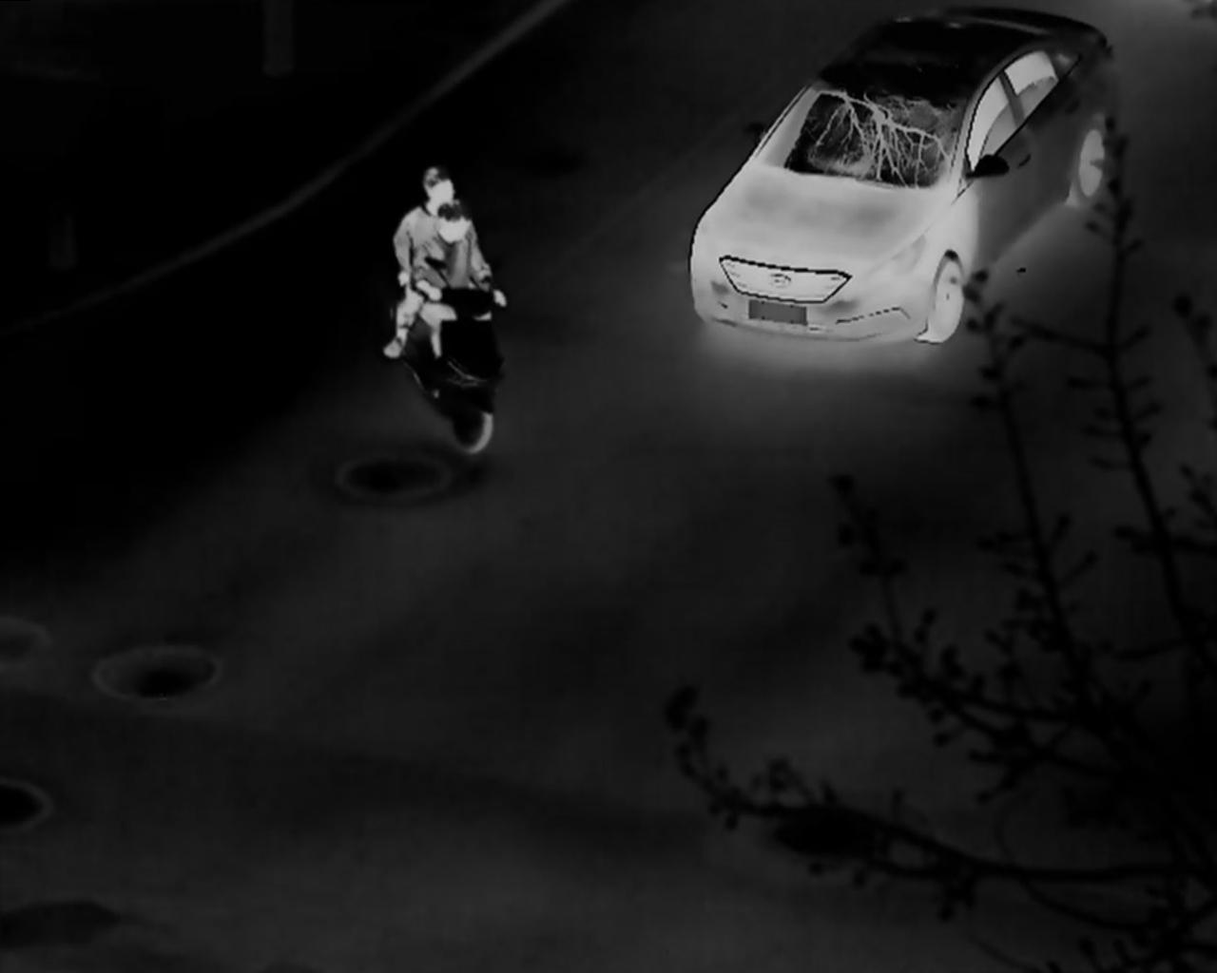person: (386, 167, 507, 360), (412, 204, 493, 361)
